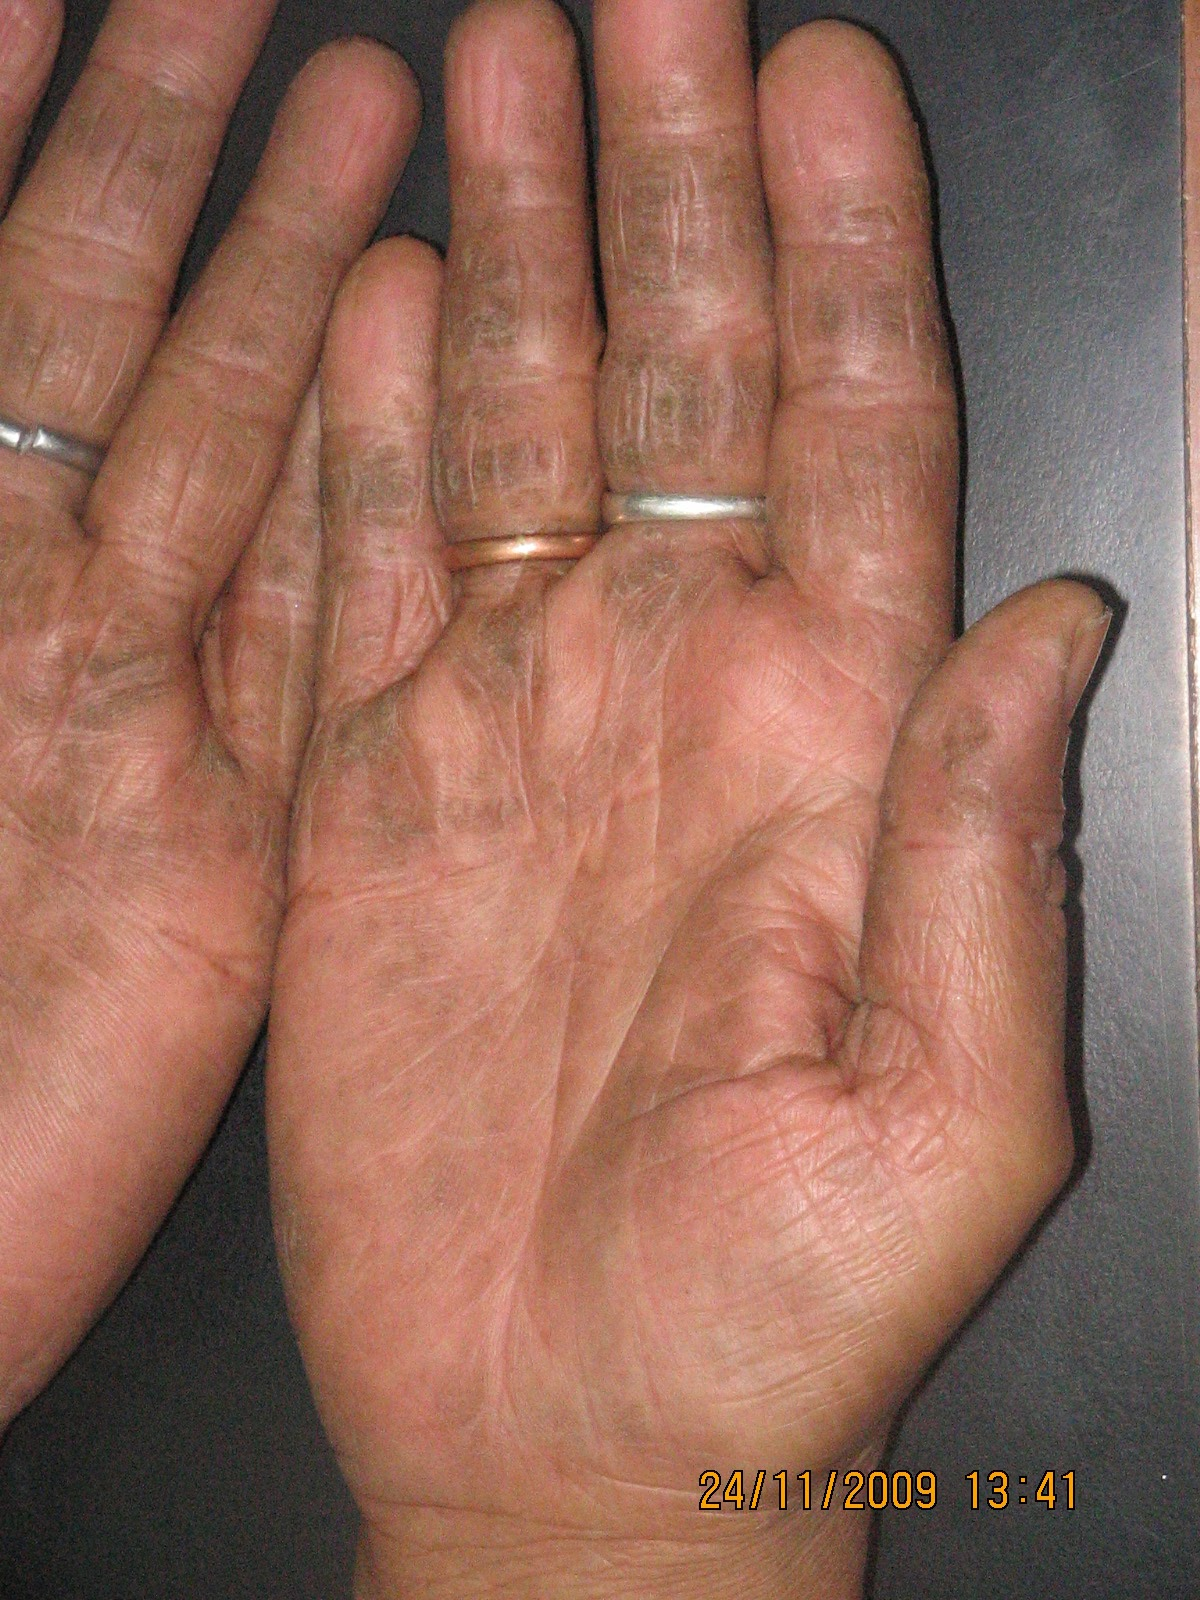Diseased: (28, 33, 1058, 911)
